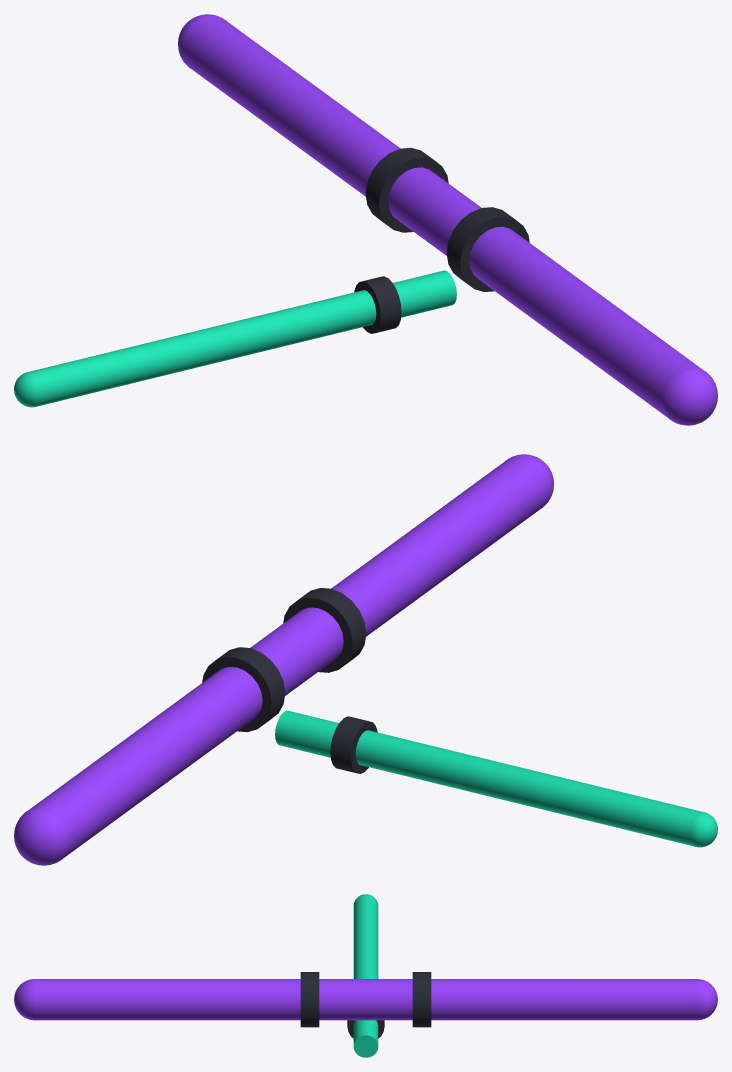
File: beams.glb
3 renders of one model, top to bottom at view 1: azimuth 30°, elevation 25°; view 2: azimuth 150°, elevation 25°; view 3: azimuth 270°, elevation 25°, orthographic. The views are drawn at different scales.
Visible parts, largest first — view 1: BeamShaft, GreenHalfBeam_Arm, AxleCollar_U1, AxleCollar_U0, BeamCap_A, AxleCollar_L0, GreenBeam_Cap; view 2: BeamShaft, GreenHalfBeam_Arm, AxleCollar_U1, AxleCollar_U0, BeamCap_B, AxleCollar_L0, GreenBeam_Cap; view 3: BeamShaft, GreenHalfBeam_Arm, AxleCollar_U0, AxleCollar_U1, BeamCap_B, BeamCap_A.
Boxes of the visible parts, <box> form: BeamShaft: <box>182,16,702,417</box>; GreenHalfBeam_Arm: <box>29,270,456,406</box>; AxleCollar_U1: <box>365,147,448,232</box>; AxleCollar_U0: <box>446,207,529,291</box>; BeamCap_A: <box>661,367,717,425</box>; AxleCollar_L0: <box>354,276,401,333</box>; GreenBeam_Cap: <box>14,372,42,407</box>; BeamShaft: <box>30,456,549,857</box>; GreenHalfBeam_Arm: <box>275,710,702,846</box>; AxleCollar_U1: <box>202,647,285,732</box>; AxleCollar_U0: <box>283,588,366,672</box>; BeamCap_B: <box>14,807,70,865</box>; AxleCollar_L0: <box>330,716,377,773</box>; GreenBeam_Cap: <box>689,812,717,847</box>; BeamShaft: <box>34,979,697,1020</box>; GreenHalfBeam_Arm: <box>353,895,378,1057</box>; AxleCollar_U0: <box>300,972,319,1027</box>; AxleCollar_U1: <box>412,972,431,1027</box>; BeamCap_B: <box>694,979,717,1020</box>; BeamCap_A: <box>14,979,36,1020</box>.
Size of the model in its own units: 17.95 by 4.75 by 34.
